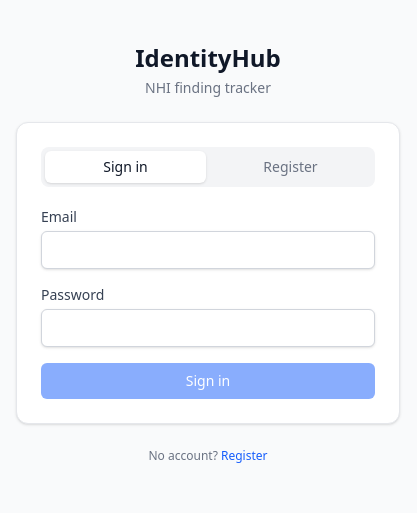
Test: LoginPage — error mapping on submit › shows 'Incorrect email or password.' for INVALID_CREDENTIALS
Type "a@b.com" into the field labelled "Email". click: (208, 250)
box: [41,231,375,269]
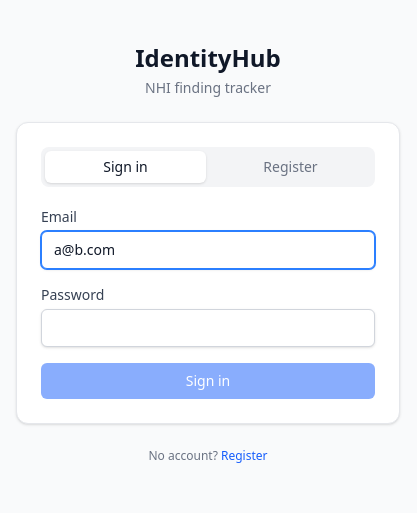
Type "wrong" into the password field labelled "Password". click: (208, 328)
box: [41,309,375,347]
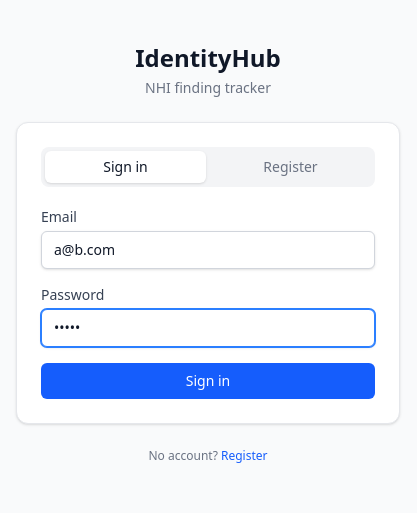
Click the button "Sign in" below "Password". click: (208, 381)
box: [41,363,375,399]
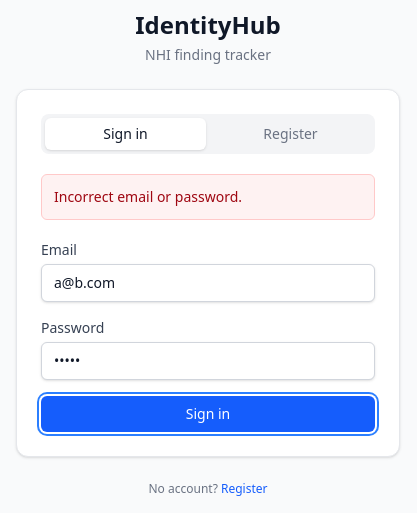
Expected: the text "Incorrect email or password." is shown, [54,187,242,206]
